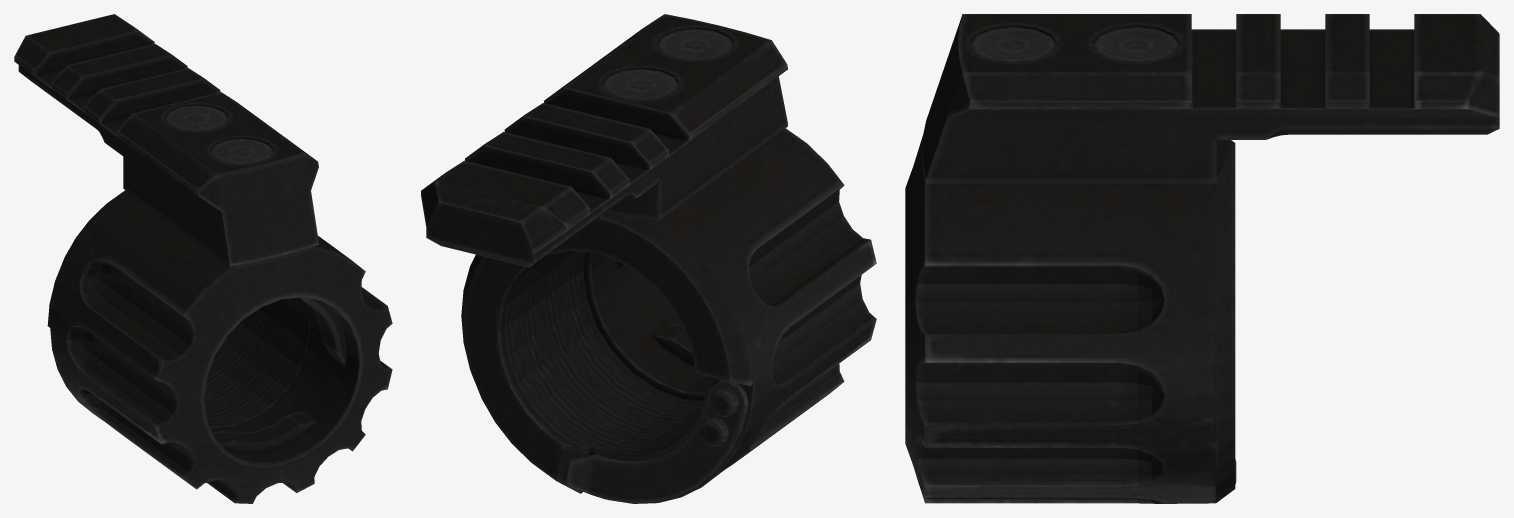
3 views of the same model, side by side, from view 1: azimuth 30°, elevation 25°; view 2: azimuth 150°, elevation 25°; view 3: azimuth 270°, elevation 25° (orthographic). The views are drawn at different scales.
Parts seen in each view (by area): view 1: TW_5de8f237bbaf010b10528a70_PZ_Import; view 2: TW_5de8f237bbaf010b10528a70_PZ_Import; view 3: TW_5de8f237bbaf010b10528a70_PZ_Import.
Part boxes in pixels (x1,y1,x2,y2): TW_5de8f237bbaf010b10528a70_PZ_Import: [14, 14, 392, 503]; TW_5de8f237bbaf010b10528a70_PZ_Import: [421, 14, 876, 503]; TW_5de8f237bbaf010b10528a70_PZ_Import: [905, 14, 1499, 503].
Size of the model in its own units: 0.0244 by 0.0386 by 0.0317.
1 material, 1 textured.
